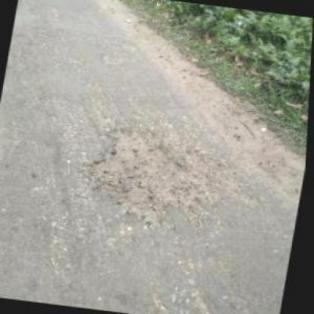Hueco: (81, 123, 205, 226)
